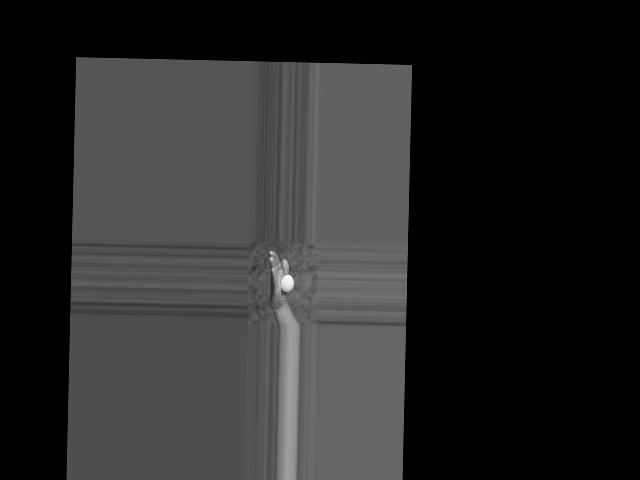egg: (280, 274, 294, 292)
